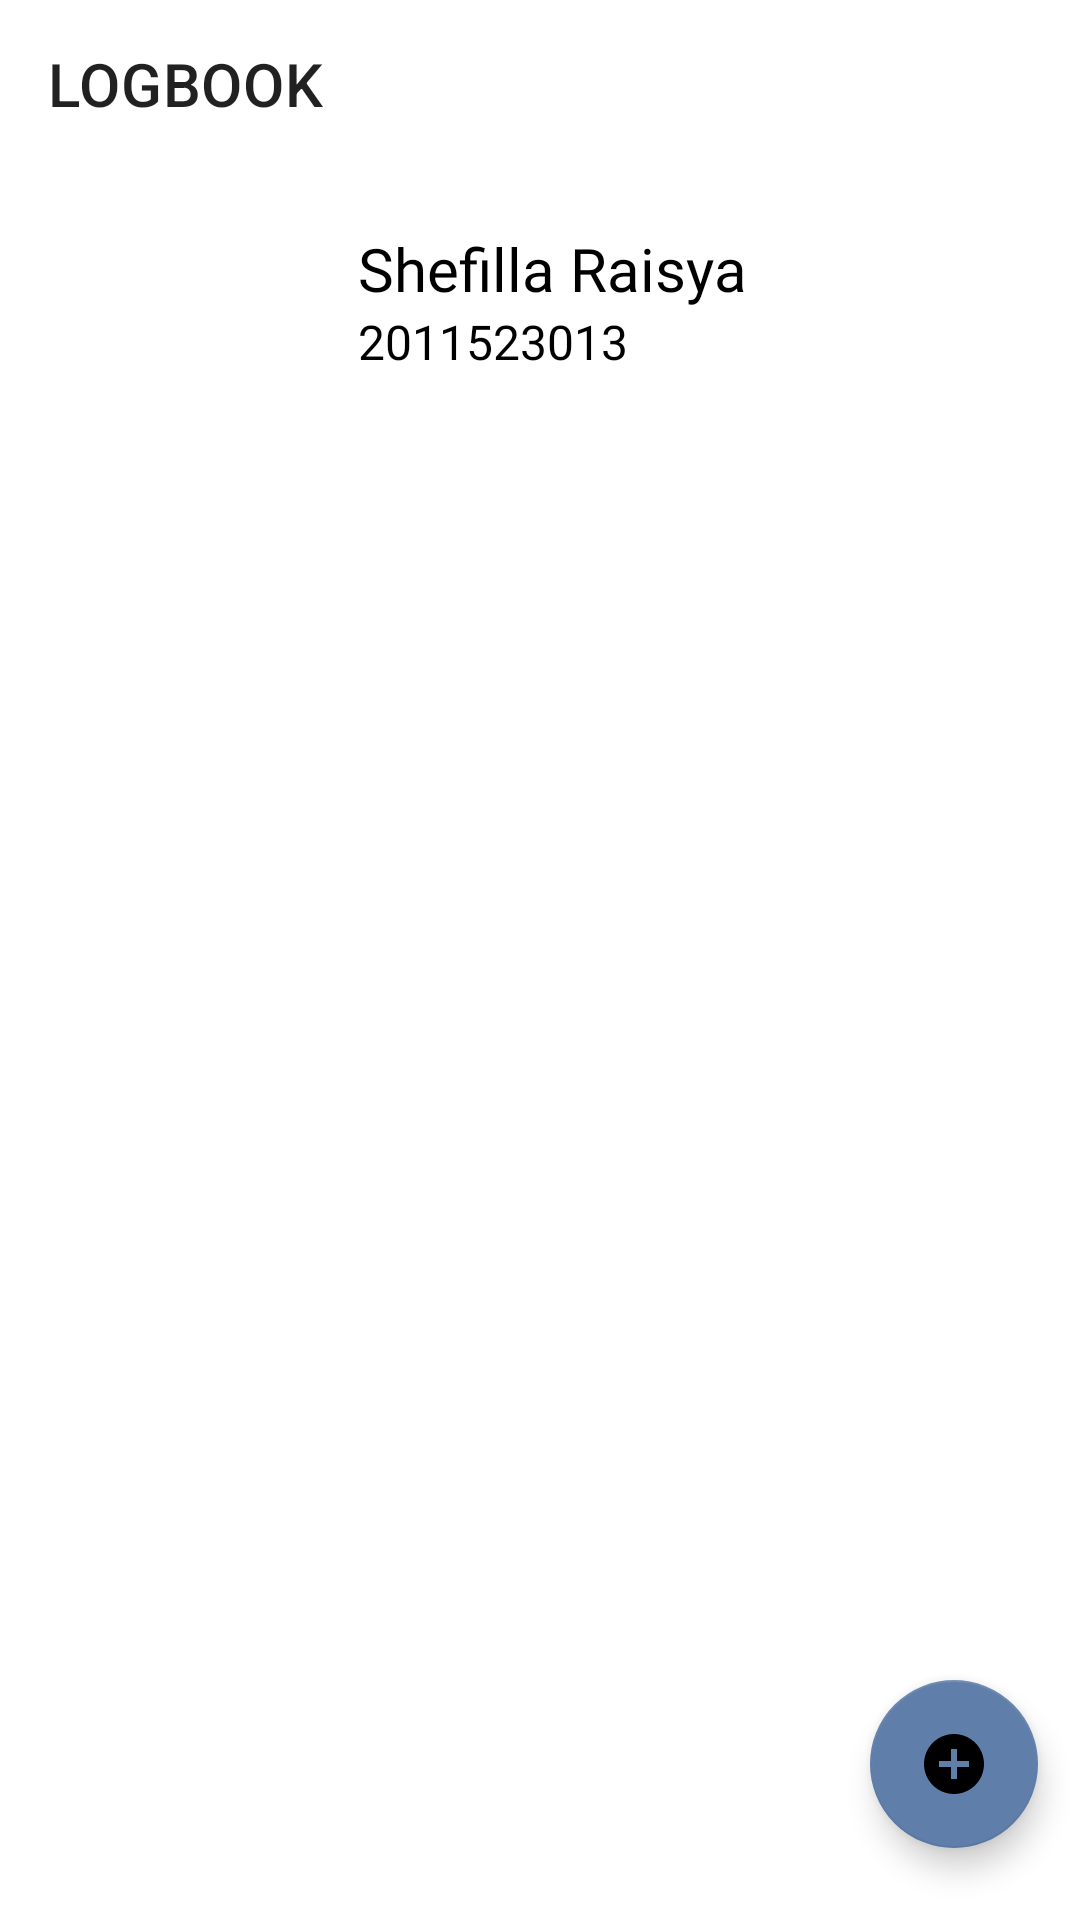

Icon bounding boxes for this 1080*1920 phone screenshot, format (x1, y1, x2, y2):
tambah: (870, 1680, 1038, 1848)
